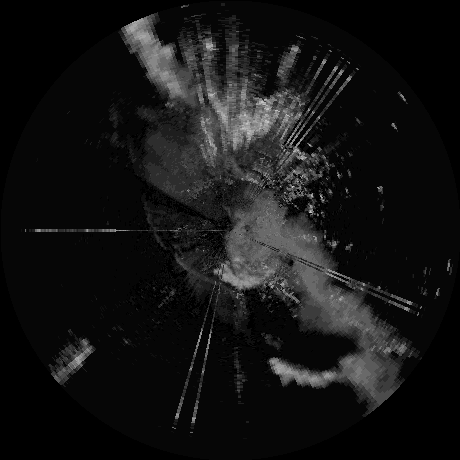frontgust: (175, 257, 235, 292), (141, 205, 163, 247)
